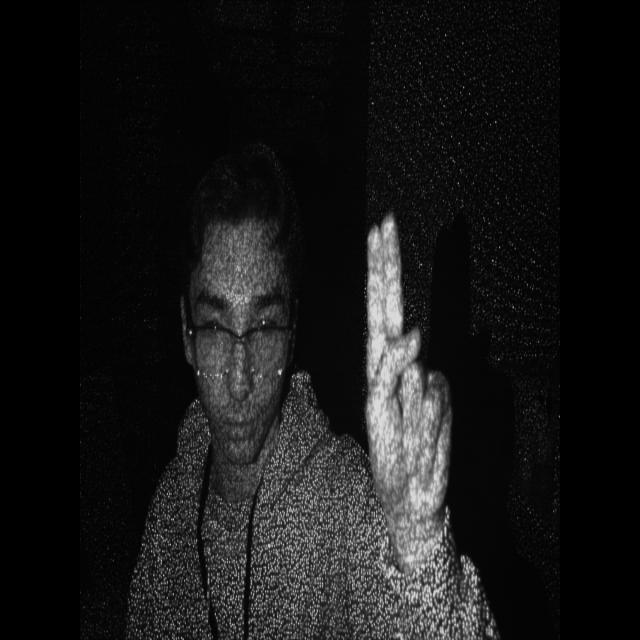U: (354, 199, 460, 538)
